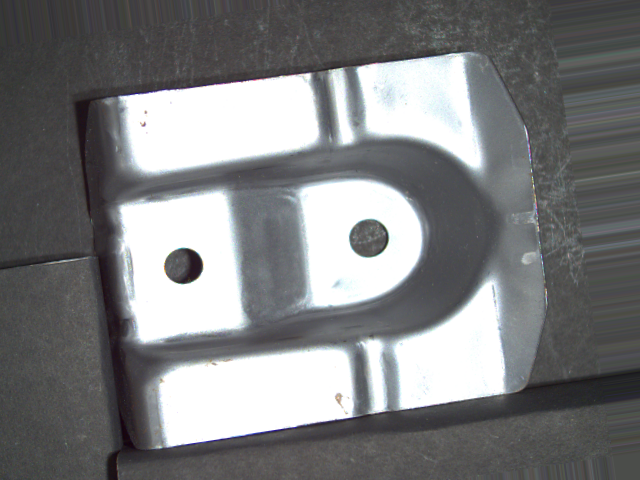defect: (344, 215, 391, 259)
